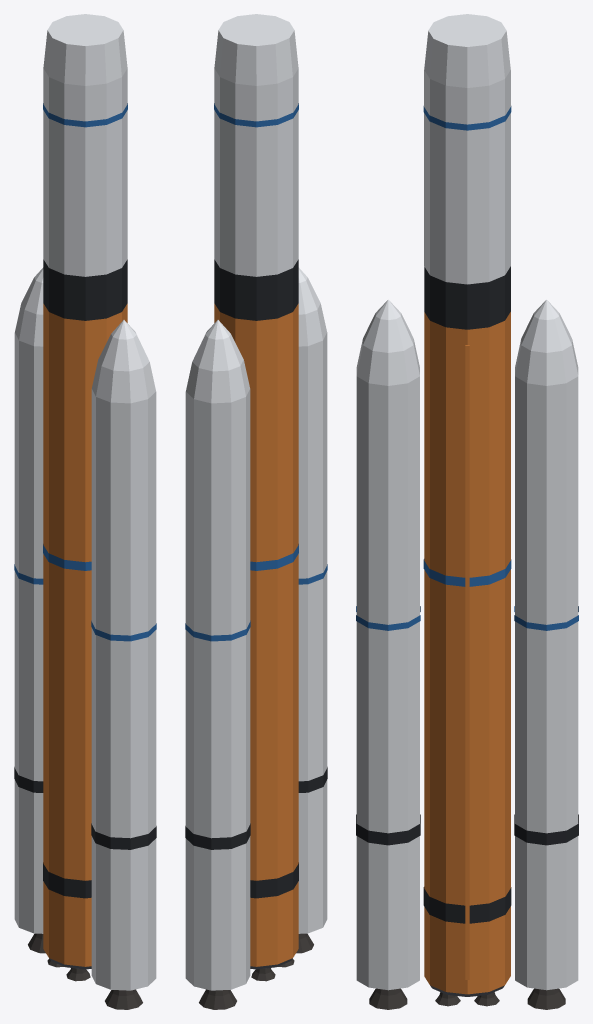
Rendered from rocket_heavy.glb.
3 views of the same model, side by side, from view 1: azimuth 30°, elevation 25°; view 2: azimuth 150°, elevation 25°; view 3: azimuth 270°, elevation 25° (orthographic). The views are drawn at different scales.
Parts seen in each view (by area): view 1: heavy_boosters__White, heavy_stage1__Foam, heavy_stage2__White, heavy_stage1__Dark, heavy_boosters__Dark, heavy_boosters__Engine, heavy_boosters__Accent, heavy_stage2__Accent, heavy_stage1__Accent; view 2: heavy_boosters__White, heavy_stage1__Foam, heavy_stage2__White, heavy_stage1__Dark, heavy_boosters__Dark, heavy_boosters__Engine, heavy_boosters__Accent, heavy_stage2__Accent, heavy_stage1__Accent; view 3: heavy_boosters__White, heavy_stage1__Foam, heavy_stage2__White, heavy_stage1__Dark, heavy_boosters__Dark, heavy_boosters__Engine, heavy_boosters__Accent, heavy_stage1__Accent, heavy_stage2__Accent.
Boxes of the visible parts, box(x1,y1,x2,y2) form: heavy_boosters__White: box(14, 267, 156, 990); heavy_stage1__Foam: box(43, 303, 127, 966); heavy_stage2__White: box(43, 14, 127, 276); heavy_stage1__Dark: box(43, 259, 127, 969); heavy_boosters__Dark: box(14, 767, 156, 849); heavy_boosters__Engine: box(28, 933, 142, 1009); heavy_boosters__Accent: box(14, 564, 156, 641); heavy_stage2__Accent: box(43, 103, 127, 127); heavy_stage1__Accent: box(43, 544, 91, 570); heavy_boosters__White: box(185, 267, 327, 990); heavy_stage1__Foam: box(214, 303, 298, 966); heavy_stage2__White: box(214, 14, 298, 276); heavy_stage1__Dark: box(214, 259, 298, 969); heavy_boosters__Dark: box(185, 767, 327, 849); heavy_boosters__Engine: box(199, 933, 313, 1009); heavy_boosters__Accent: box(185, 564, 327, 641); heavy_stage2__Accent: box(214, 103, 298, 127); heavy_stage1__Accent: box(250, 544, 298, 570); heavy_boosters__White: box(356, 299, 578, 990); heavy_stage1__Foam: box(424, 312, 510, 994); heavy_stage2__White: box(424, 14, 510, 284); heavy_stage1__Dark: box(423, 266, 511, 996); heavy_boosters__Dark: box(356, 814, 578, 845); heavy_boosters__Engine: box(369, 988, 565, 1009); heavy_boosters__Accent: box(356, 606, 578, 630); heavy_stage1__Accent: box(423, 559, 511, 586); heavy_stage2__Accent: box(423, 106, 511, 130).
Bounding box in the file's own units: 5.34 × 64.28 × 13.36.
